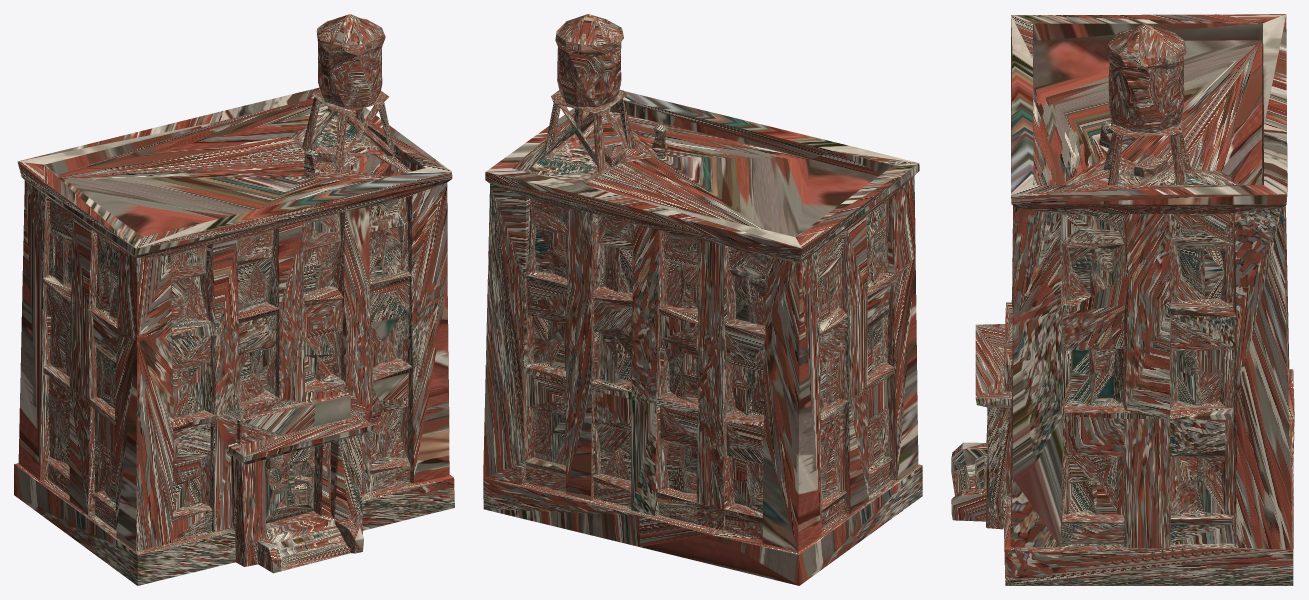
Rendered from town_office_1460.glb.
3 views of the same model, side by side, from view 1: azimuth 30°, elevation 25°; view 2: azimuth 150°, elevation 25°; view 3: azimuth 270°, elevation 25° (orthographic). The views are drawn at different scales.
Visible parts, largest first — view 1: normalize; view 2: normalize; view 3: normalize.
Boxes of the visible parts, left/top/right/bottom form: normalize: left=14, top=14, right=454, bottom=585; normalize: left=483, top=14, right=922, bottom=585; normalize: left=951, top=14, right=1294, bottom=585.
Bounding box in the file's own units: 0.9999 × 1.38 × 0.8018.
Materials: 1 (1 with a texture image).
